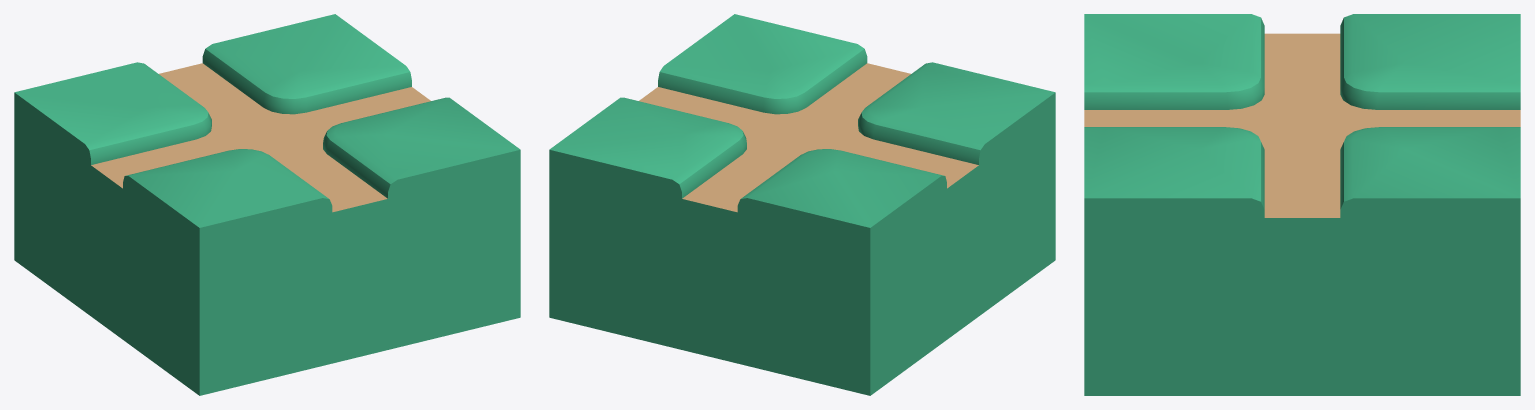
The model's file is square_forest_roadE.glb.
The picture shows the model from 3 angles, left to right: view 1: azimuth 30°, elevation 25°; view 2: azimuth 150°, elevation 25°; view 3: azimuth 270°, elevation 25°; orthographic projection. The views are drawn at different scales.
Parts seen in each view (by area): view 1: square_forest_roadE; view 2: square_forest_roadE; view 3: square_forest_roadE.
Boxes of the visible parts, x1,y1,x2,y2 form: square_forest_roadE: [14, 14, 520, 395]; square_forest_roadE: [549, 14, 1055, 395]; square_forest_roadE: [1084, 14, 1520, 395].
Size of the model in its own units: 3.82 by 1.91 by 3.82.
